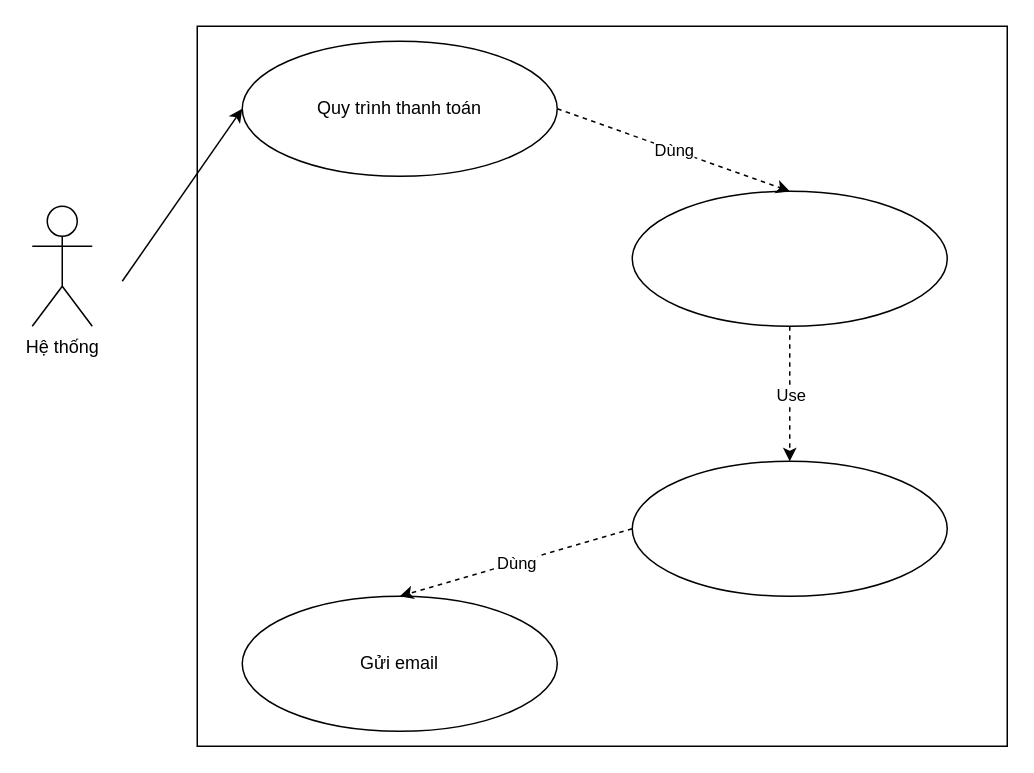
This 1034x773 diagram has some shape labels left out. Each missing label, with the centre of its shape:
"xác thực thông tin mặt hàng" goes at pixel 789 258.
"xử lý thanh toán" goes at pixel 789 528.
